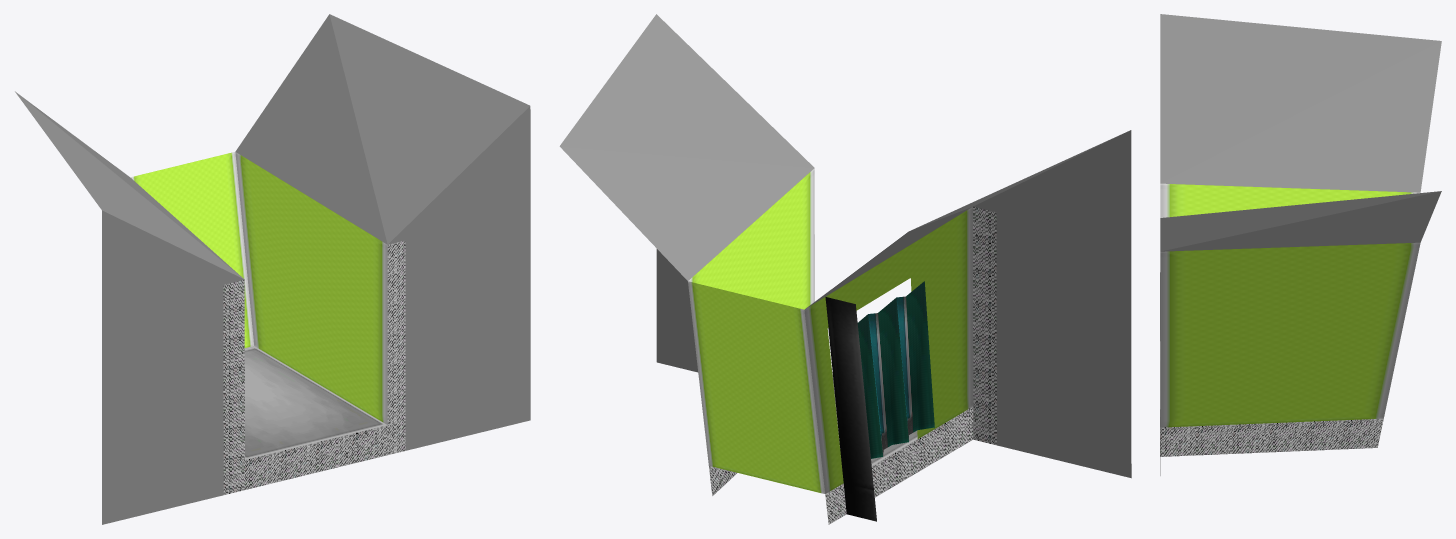
Rendered from idr_photo.dae.
3 renders of one model, left to right at view 1: azimuth 30°, elevation 25°; view 2: azimuth 150°, elevation 25°; view 3: azimuth 270°, elevation 25°, orthographic. The views are drawn at different scales.
Visible parts, largest first — view 1: idr_photo; view 2: idr_photo; view 3: idr_photo.
Boxes of the visible parts, bbox=[...] form: idr_photo: bbox=[15, 14, 530, 524]; idr_photo: bbox=[559, 14, 1131, 524]; idr_photo: bbox=[1160, 14, 1441, 475].
Bounding box in the file's own units: 239 × 167 × 139.
6 materials, 6 textured.
